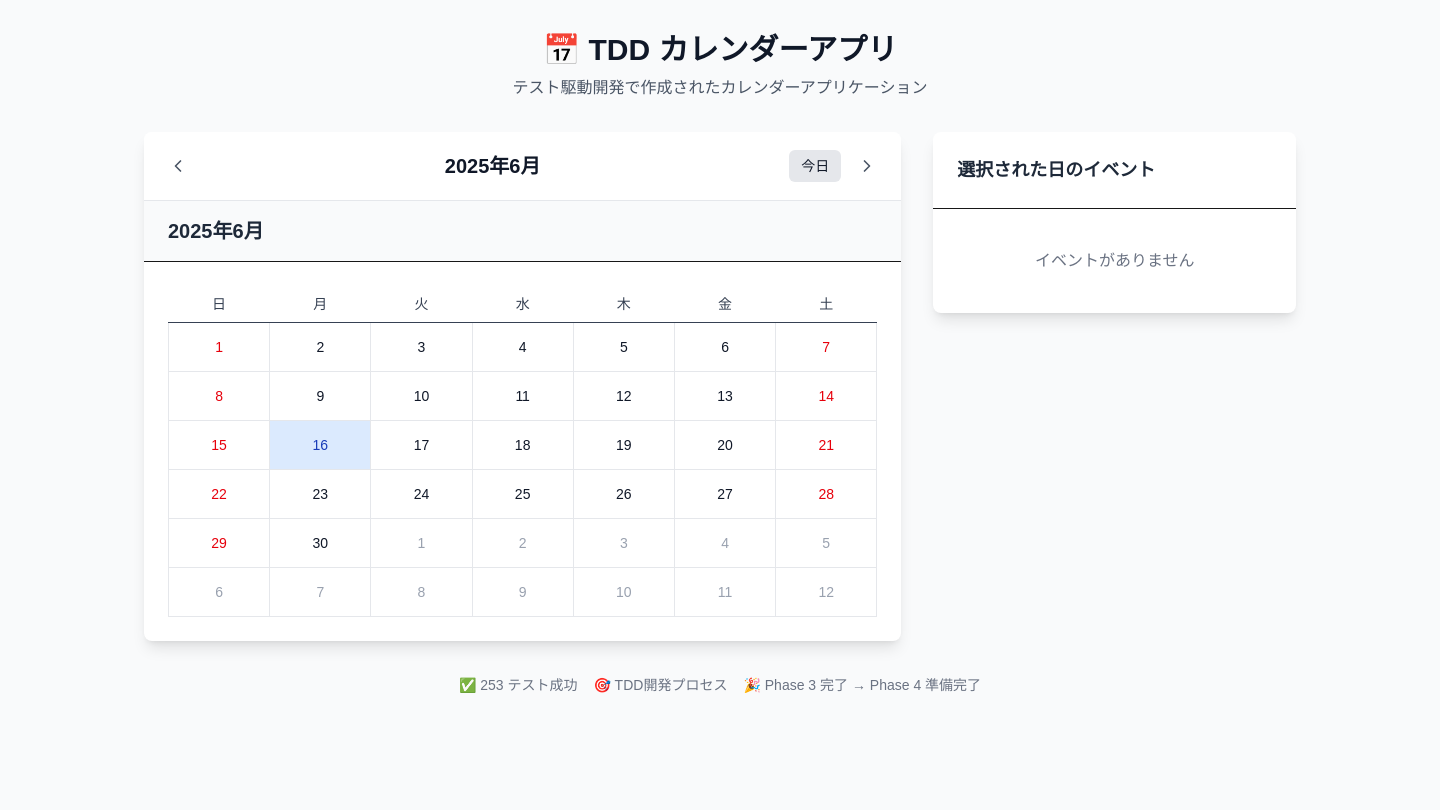
CalendarApp Integration › 日付選択機能 › 日付をクリックして選択状態が表示される
#  日付をクリック
Click the button "15". click: click(219, 445)
box: [169,421,269,469]
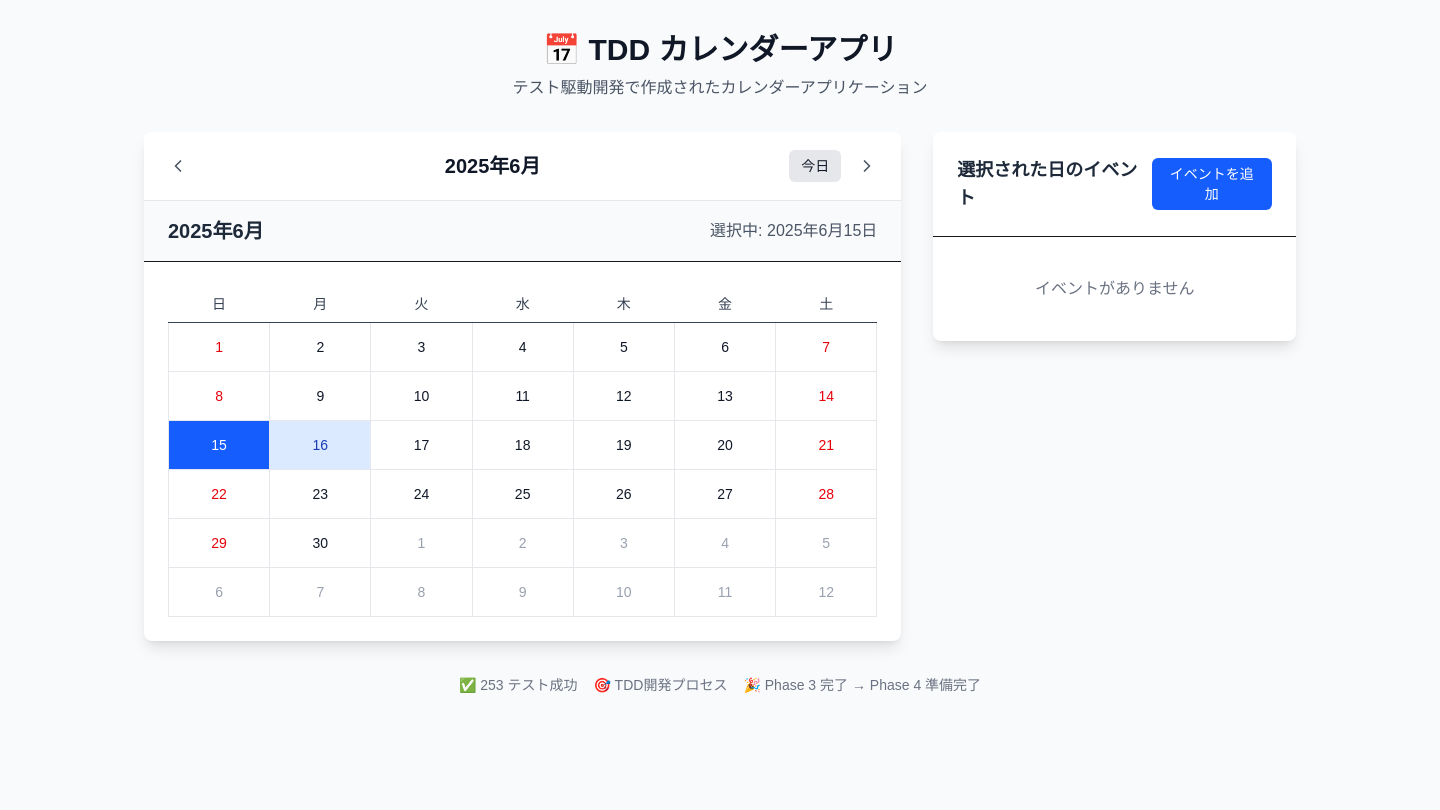
Check: the text "選択中: 2025年6月15日" is shown, box [710,219,877,243]
